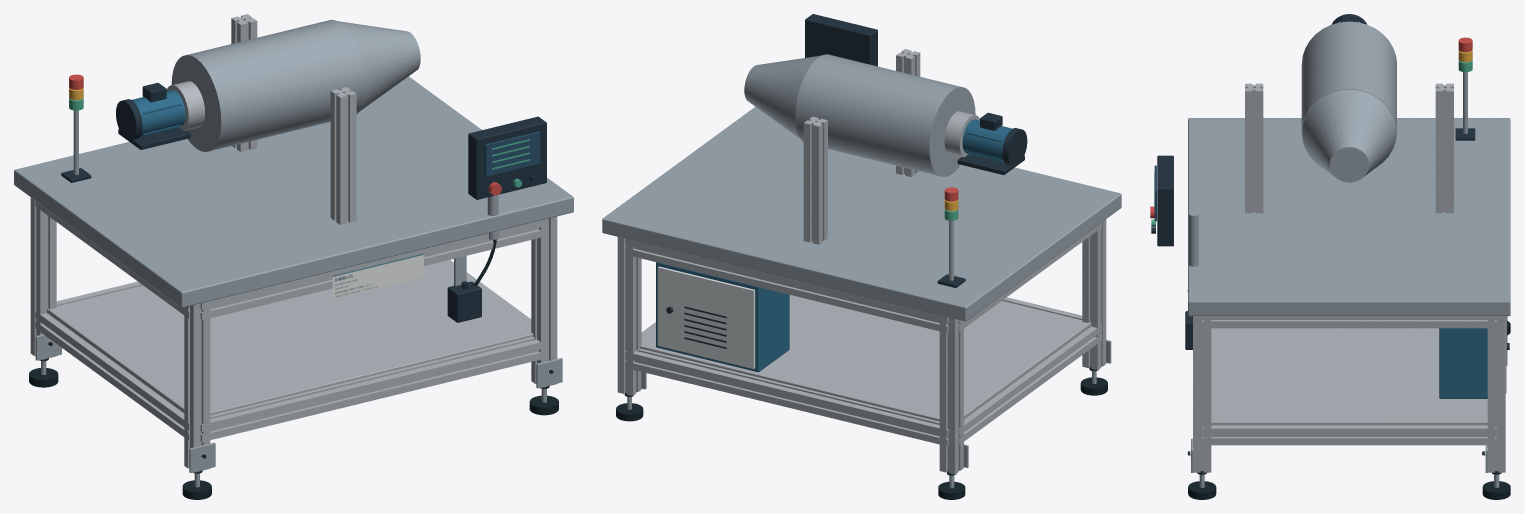
The model's file is decanter-cell.glb.
3 views of the same model, side by side, from view 1: azimuth 30°, elevation 25°; view 2: azimuth 150°, elevation 25°; view 3: azimuth 270°, elevation 25° (orthographic). The views are drawn at different scales.
Parts seen in each view (by area): view 1: ClosedMachineBed_40, LowerShelf_41, CylindricalBowl_73, SlottedExtrusion_34, SlottedExtrusion_35, SlottedExtrusion_11, ConicalBowl_74, SlottedExtrusion_36, SlottedExtrusion_72, SlottedExtrusion_27, ConsoleBack_52, SlottedExtrusion_3 (+11 smaller); view 2: ClosedMachineBed_40, LowerShelf_41, CylindricalBowl_73, BackDoor_43, SlottedExtrusion_32, SlottedExtrusion_33, SlottedExtrusion_3, SlottedExtrusion_19, Cabinet_42, ConicalBowl_74, SlottedExtrusion_36, SlottedExtrusion_71 (+8 smaller); view 3: ClosedMachineBed_40, LowerShelf_41, CylindricalBowl_73, ConicalBowl_74, SlottedExtrusion_38, SlottedExtrusion_39, Cabinet_42, SlottedExtrusion_27, SlottedExtrusion_19, SlottedExtrusion_71, SlottedExtrusion_72, ConsoleBack_52 (+3 smaller).
Part boxes in pixels (x1,y1,x2,y2): ClosedMachineBed_40: (14, 76, 573, 307); LowerShelf_41: (47, 261, 533, 415); CylindricalBowl_73: (171, 19, 365, 151); SlottedExtrusion_34: (200, 337, 548, 442); SlottedExtrusion_35: (200, 218, 548, 320); SlottedExtrusion_11: (184, 301, 210, 472); ConicalBowl_74: (337, 21, 420, 111); SlottedExtrusion_36: (35, 311, 189, 440); SlottedExtrusion_72: (330, 87, 356, 224); SlottedExtrusion_27: (531, 216, 557, 387); ConsoleBack_52: (468, 116, 546, 199); SlottedExtrusion_3: (30, 197, 56, 360); ClosedMachineBed_40: (602, 107, 1121, 321); LowerShelf_41: (640, 295, 1091, 421); CylindricalBowl_73: (795, 54, 975, 176); BackDoor_43: (657, 266, 755, 368); SlottedExtrusion_32: (625, 348, 948, 446); SlottedExtrusion_33: (625, 238, 948, 332); SlottedExtrusion_3: (939, 315, 963, 474); SlottedExtrusion_19: (617, 237, 641, 395); Cabinet_42: (656, 262, 789, 372); ConicalBowl_74: (744, 55, 821, 139); SlottedExtrusion_36: (958, 324, 1101, 444); SlottedExtrusion_71: (803, 116, 827, 244); ClosedMachineBed_40: (1188, 118, 1510, 316); LowerShelf_41: (1211, 328, 1487, 425); CylindricalBowl_73: (1301, 21, 1396, 168); ConicalBowl_74: (1302, 89, 1396, 182); SlottedExtrusion_38: (1202, 425, 1496, 445); SlottedExtrusion_39: (1202, 316, 1496, 328); Cabinet_42: (1439, 328, 1487, 398); SlottedExtrusion_27: (1193, 316, 1211, 472); SlottedExtrusion_19: (1487, 316, 1505, 472); SlottedExtrusion_71: (1435, 83, 1453, 213); SlottedExtrusion_72: (1245, 83, 1263, 213); ConsoleBack_52: (1157, 155, 1173, 246).
Bounding box in the file's own units: 1.55 × 1.36 × 1.29.
11 materials, 3 textured.
